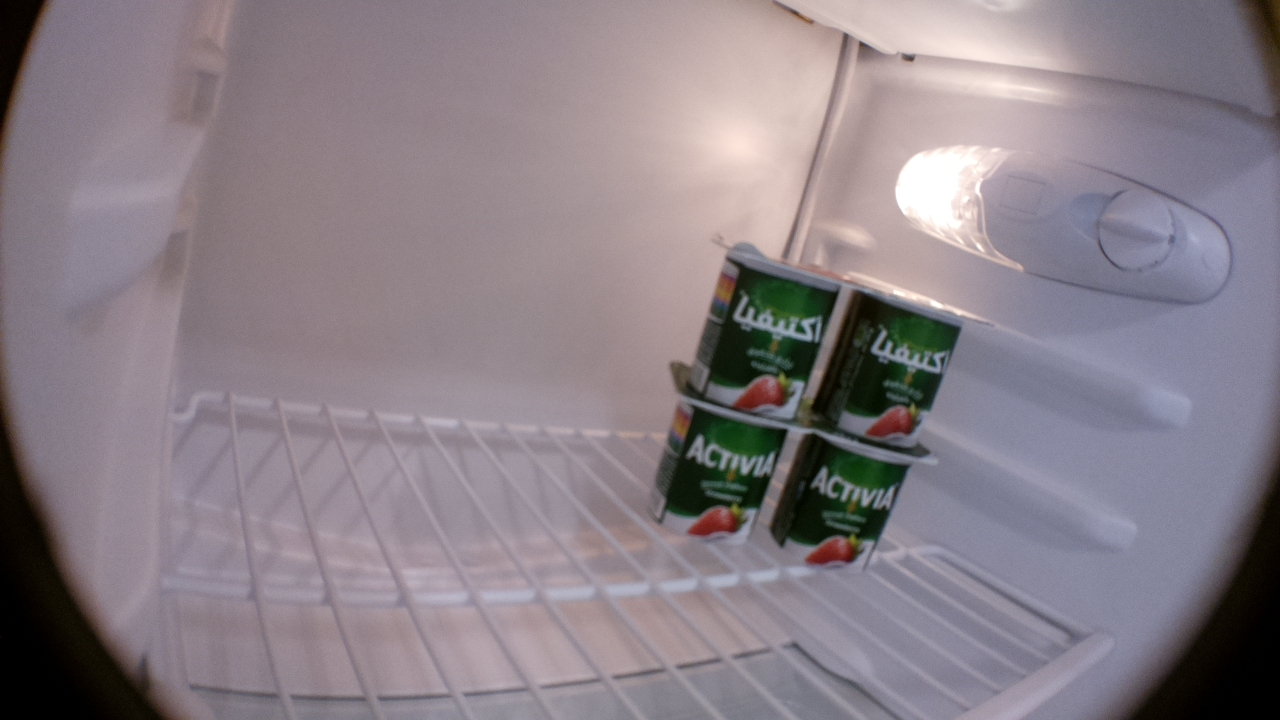yoghurt: (809, 271, 997, 448), (650, 361, 812, 545), (687, 241, 849, 423), (767, 420, 943, 572)
